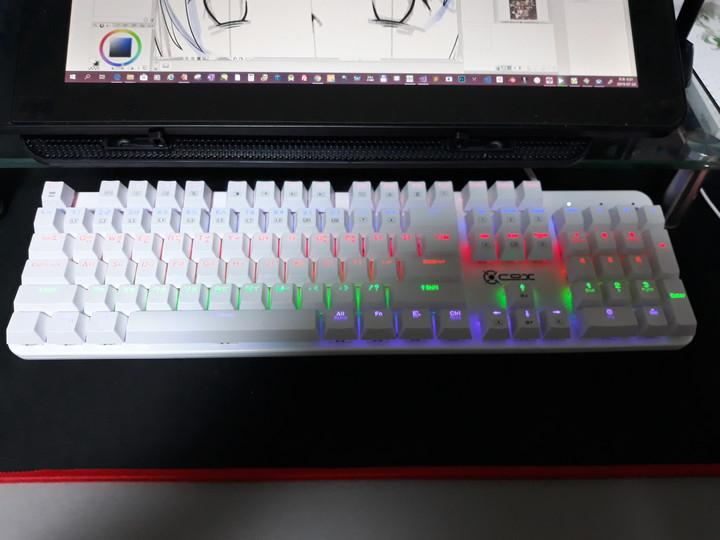keyboard: (5, 176, 697, 359)
